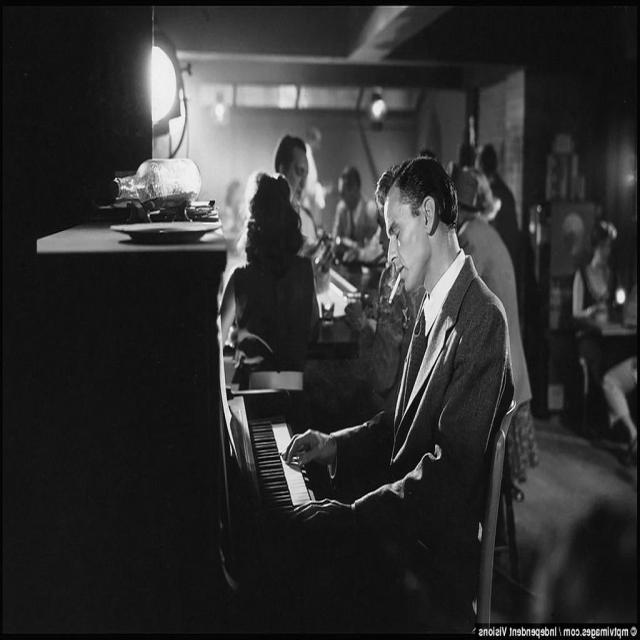smoking: (358, 138, 470, 322)
